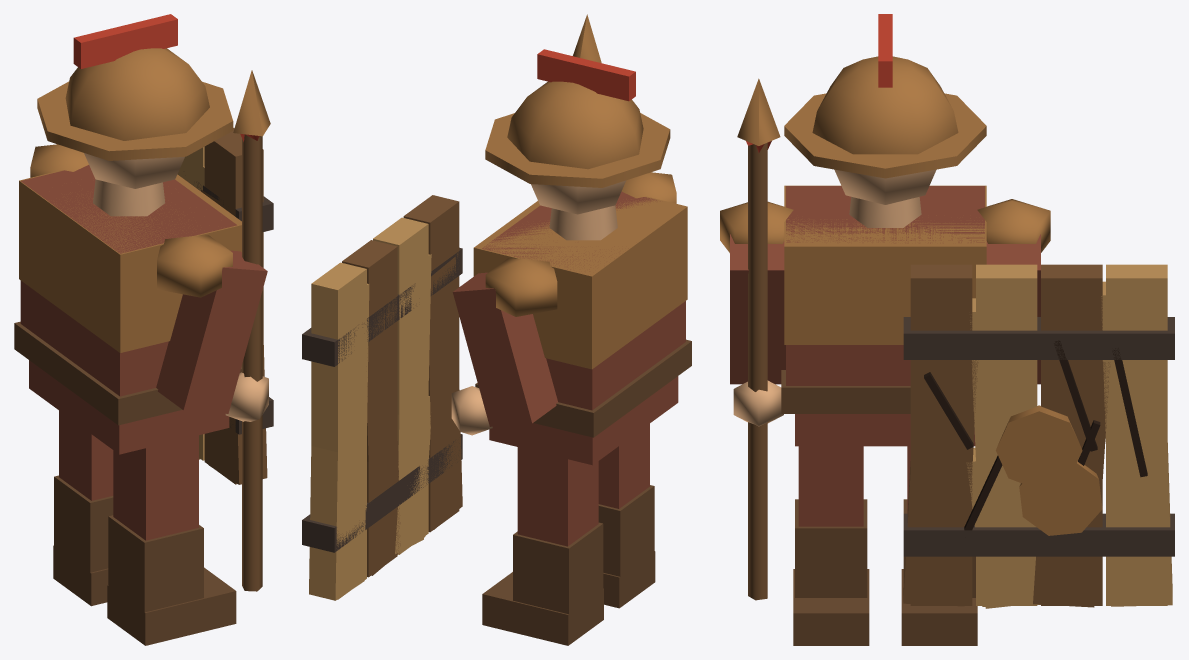
Rendered from enemy_shieldbearer.glb.
3 views of the same model, side by side, from view 1: azimuth 30°, elevation 25°; view 2: azimuth 150°, elevation 25°; view 3: azimuth 270°, elevation 25° (orthographic). The views are drawn at different scales.
Visible parts, largest first — view 1: cuirass, torso, arm_r_upper, helmet, leg_r_thigh, spear_shaft, leg_r_greave, helmet_brim, pelvis, leg_r_boot, belt, leg_l_greave (+13 smaller); view 2: cuirass, shield_3_plank_0, shield_1_plank_0, arm_l_upper, helmet, torso, shield_2_plank_2, shield_2_plank_3, leg_l_thigh, leg_l_greave, shield_1_plank_1, helmet_brim (+20 smaller); view 3: cuirass, shield_3_plank_3, shield_3_plank_0, torso, helmet, shield_1_plank_0, shield_3_plank_2, shield_2_plank_2, shield_3_band_0, spear_shaft, shield_3_band_1, shield_3_plank_1 (+26 smaller).
Boxes of the visible parts, x1=… form: cuirass: x1=19, y1=170, x2=241, y2=352; torso: x1=20, y1=165, x2=236, y2=396; arm_r_upper: x1=156, y1=250, x2=267, y2=413; helmet: x1=65, y1=48, x2=209, y2=140; leg_r_thigh: x1=113, y1=435, x2=198, y2=540; spear_shaft: x1=242, y1=134, x2=262, y2=591; leg_r_greave: x1=108, y1=515, x2=203, y2=612; helmet_brim: x1=37, y1=81, x2=233, y2=160; pelvis: x1=29, y1=360, x2=229, y2=454; leg_r_boot: x1=107, y1=567, x2=236, y2=645; belt: x1=14, y1=321, x2=241, y2=425; leg_l_greave: x1=54, y1=475, x2=113, y2=575; cuirass: x1=473, y1=196, x2=687, y2=369; shield_3_plank_0: x1=311, y1=262, x2=366, y2=599; shield_1_plank_0: x1=309, y1=283, x2=369, y2=600; arm_l_upper: x1=452, y1=272, x2=557, y2=426; helmet: x1=507, y1=81, x2=643, y2=169; torso: x1=482, y1=191, x2=685, y2=410; shield_2_plank_2: x1=397, y1=254, x2=431, y2=555; shield_2_plank_3: x1=428, y1=256, x2=462, y2=529; leg_l_thigh: x1=517, y1=447, x2=598, y2=546; leg_l_greave: x1=513, y1=522, x2=603, y2=614; shield_1_plank_1: x1=367, y1=325, x2=400, y2=575; helmet_brim: x1=485, y1=113, x2=670, y2=187; cuirass: x1=784, y1=185, x2=986, y2=344; shield_3_plank_3: x1=910, y1=264, x2=972, y2=605; shield_3_plank_0: x1=1106, y1=264, x2=1167, y2=605; torso: x1=786, y1=186, x2=984, y2=385; helmet: x1=812, y1=56, x2=958, y2=154; shield_1_plank_0: x1=1101, y1=281, x2=1172, y2=606; shield_3_plank_2: x1=976, y1=264, x2=1037, y2=605; shield_2_plank_2: x1=970, y1=298, x2=1040, y2=606; shield_3_band_0: x1=903, y1=317, x2=1174, y2=359; spear_shaft: x1=748, y1=142, x2=767, y2=600; shield_3_band_1: x1=903, y1=513, x2=1174, y2=556; shield_3_plank_1: x1=1041, y1=264, x2=1102, y2=605.
Size of the model in its own units: 0.157 by 0.352 by 0.2514.
